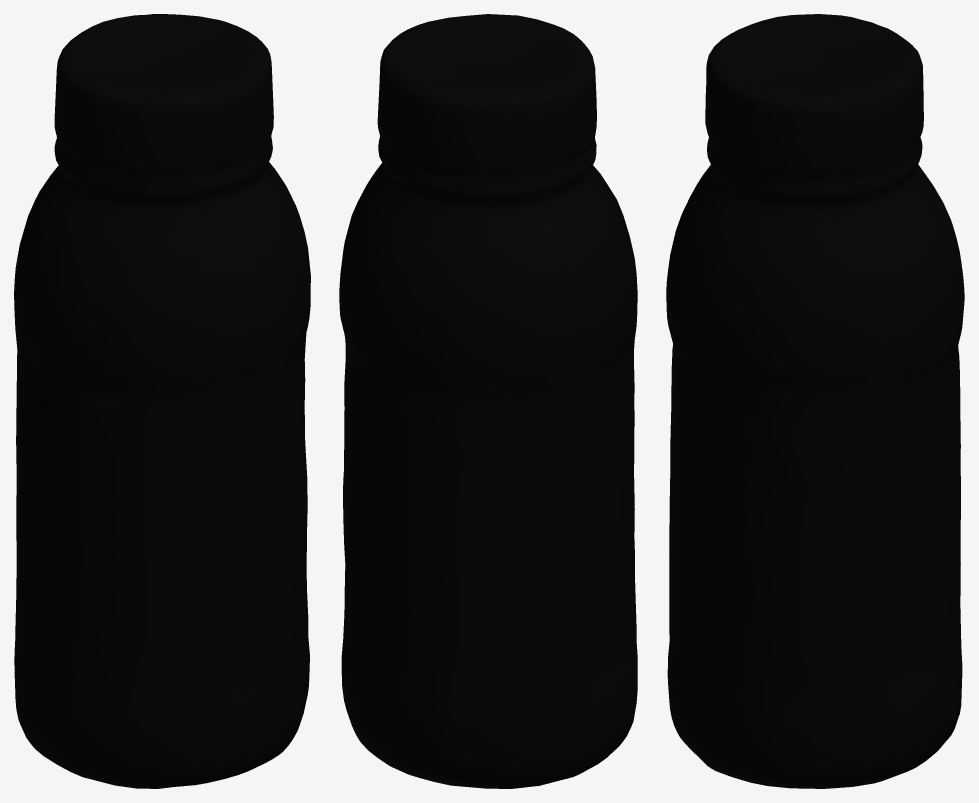
Rendered from CreamBottle.fbx.
3 views of the same model, side by side, from view 1: azimuth 30°, elevation 25°; view 2: azimuth 150°, elevation 25°; view 3: azimuth 270°, elevation 25° (orthographic).
Parts seen in each view (by area): view 1: CreamBottle; view 2: CreamBottle; view 3: CreamBottle.
Boxes of the visible parts, bbox=[...] form: CreamBottle: bbox=[14, 14, 310, 788]; CreamBottle: bbox=[339, 14, 637, 788]; CreamBottle: bbox=[666, 14, 964, 788].
Bounding box in the file's own units: 40.05 × 100 × 39.44.
1 material, 1 textured.
